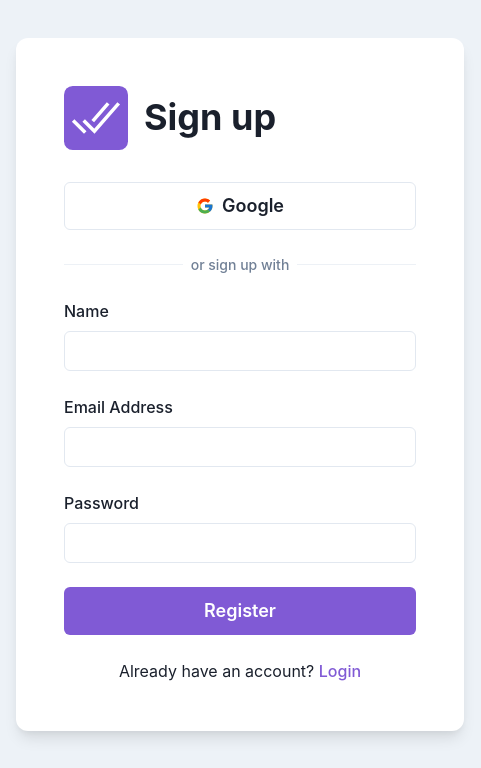
Test case: Register with email and password › should show alert error if email already use by another account
The image size is (481, 768).
In the field labelled "Name": [240, 350] box [64, 330, 416, 370], type "Affri"
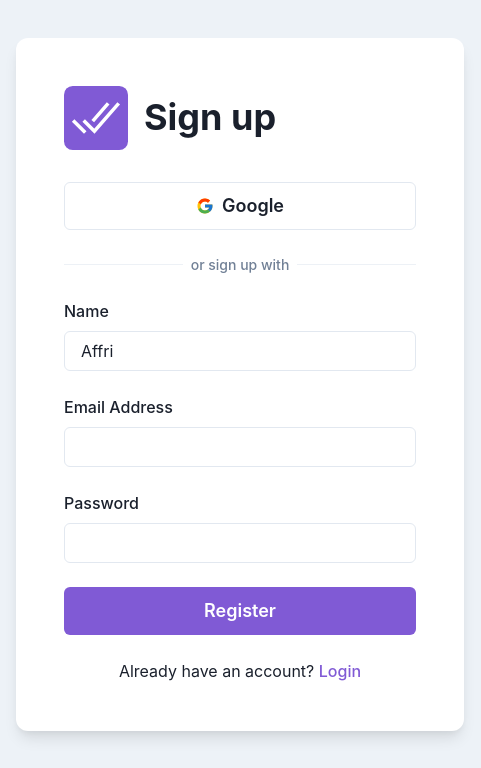
In the field labelled "Email Address": [240, 446] box [64, 426, 416, 466], type "test@test.com"
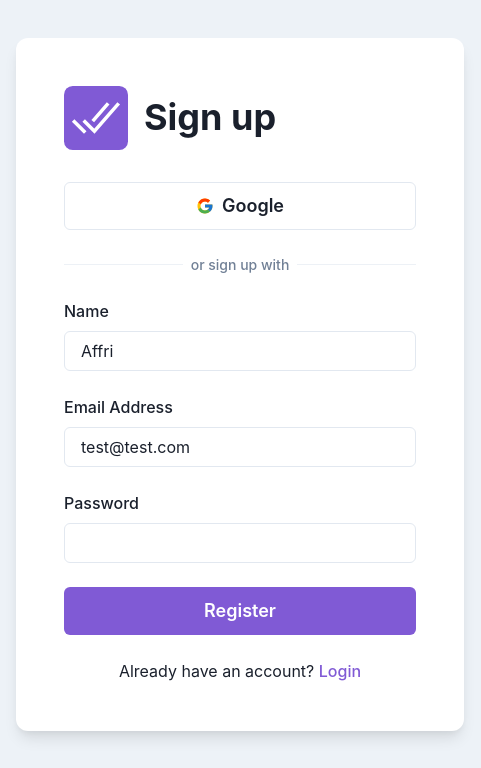
In the password field labelled "Password": [240, 542] box [64, 522, 416, 562], type "123456"
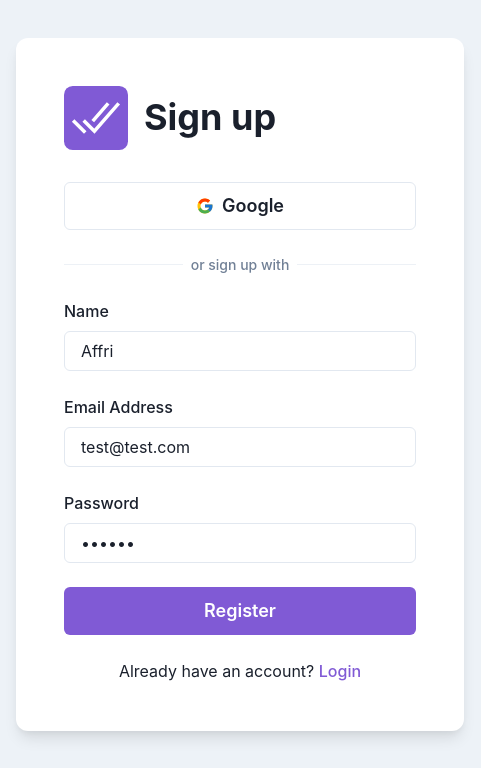
Click the button "Register": [240, 610] box [64, 586, 416, 634]
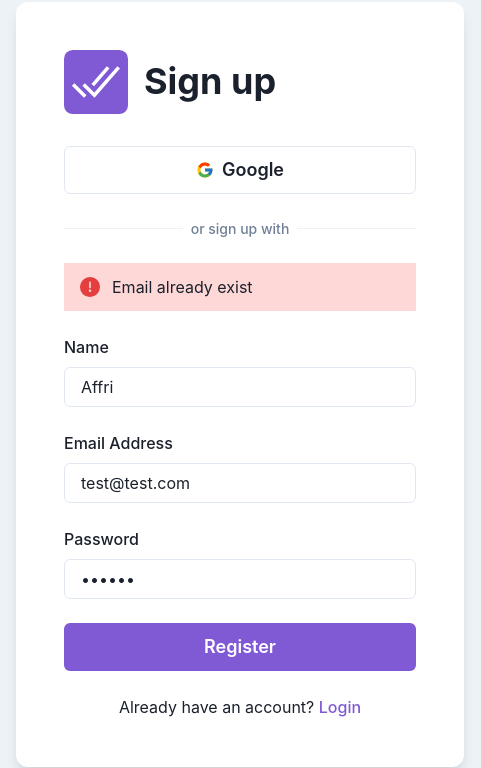
Now the message named "error" is shown, box [64, 262, 416, 310]
Now the message named "error" reads "Email already exist", box [112, 276, 253, 296]
